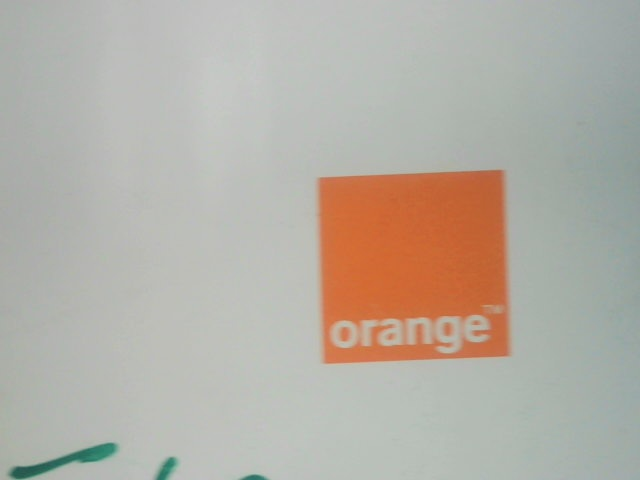AR_Orange: (309, 163, 521, 368)
